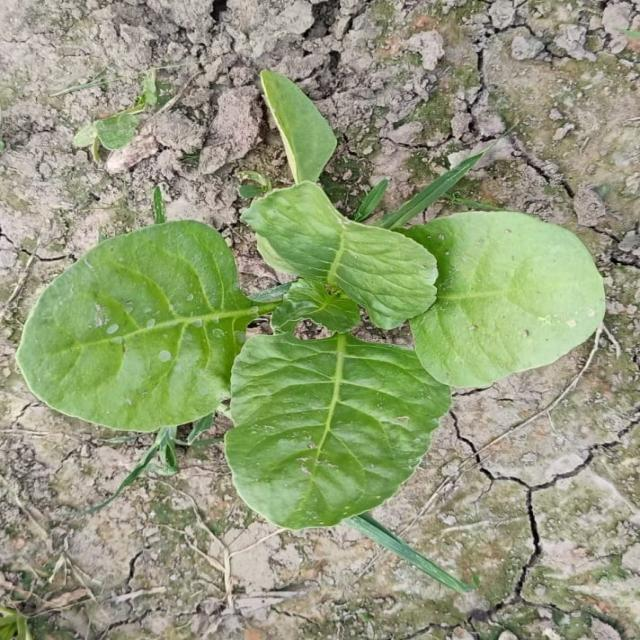plant: (17, 71, 606, 592)
